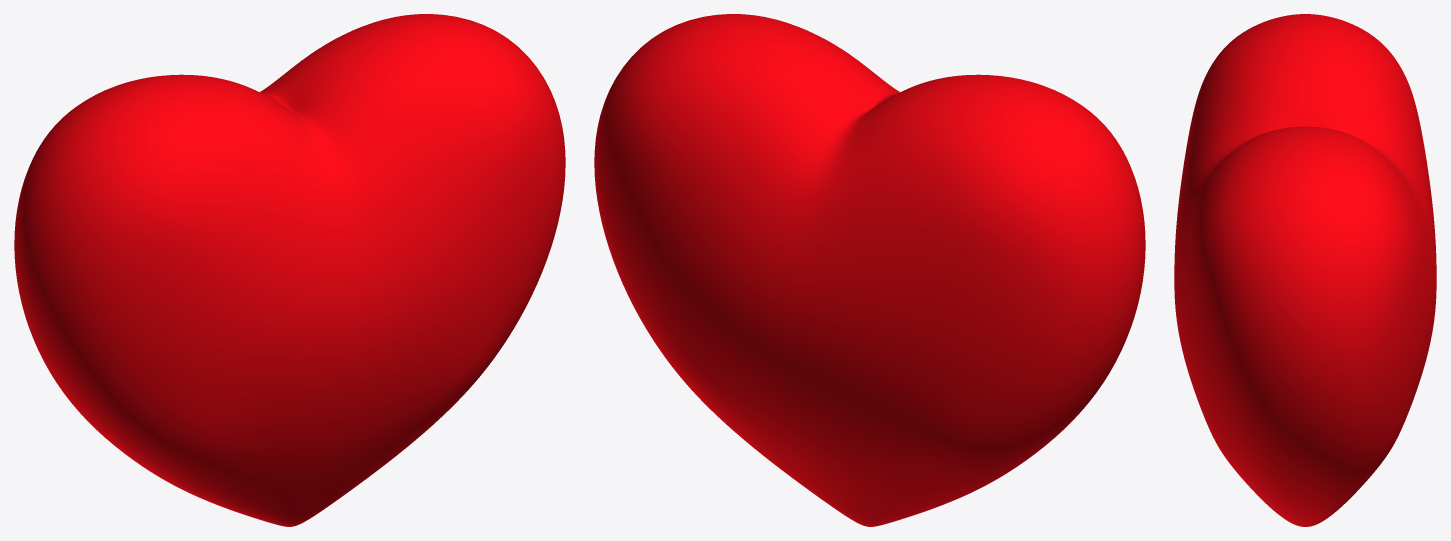
Rendered from Heart.fbx.
The picture shows the model from 3 angles, left to right: view 1: azimuth 30°, elevation 25°; view 2: azimuth 150°, elevation 25°; view 3: azimuth 270°, elevation 25°; orthographic projection. The views are drawn at different scales.
Visible parts, largest first — view 1: Vert; view 2: Vert; view 3: Vert.
Part boxes in pixels (box(x1,y1,x2,y2)): Vert: box(14, 14, 565, 526); Vert: box(594, 14, 1145, 526); Vert: box(1174, 14, 1436, 526).
Bounding box in the file's own units: 276 × 236 × 128.
